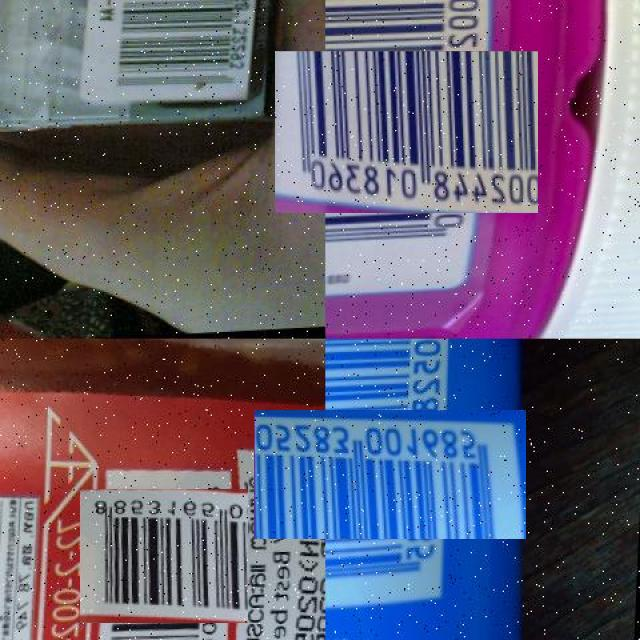Barcode: (300, 25, 512, 238), (290, 374, 490, 575), (89, 480, 240, 632), (85, 0, 263, 109)
